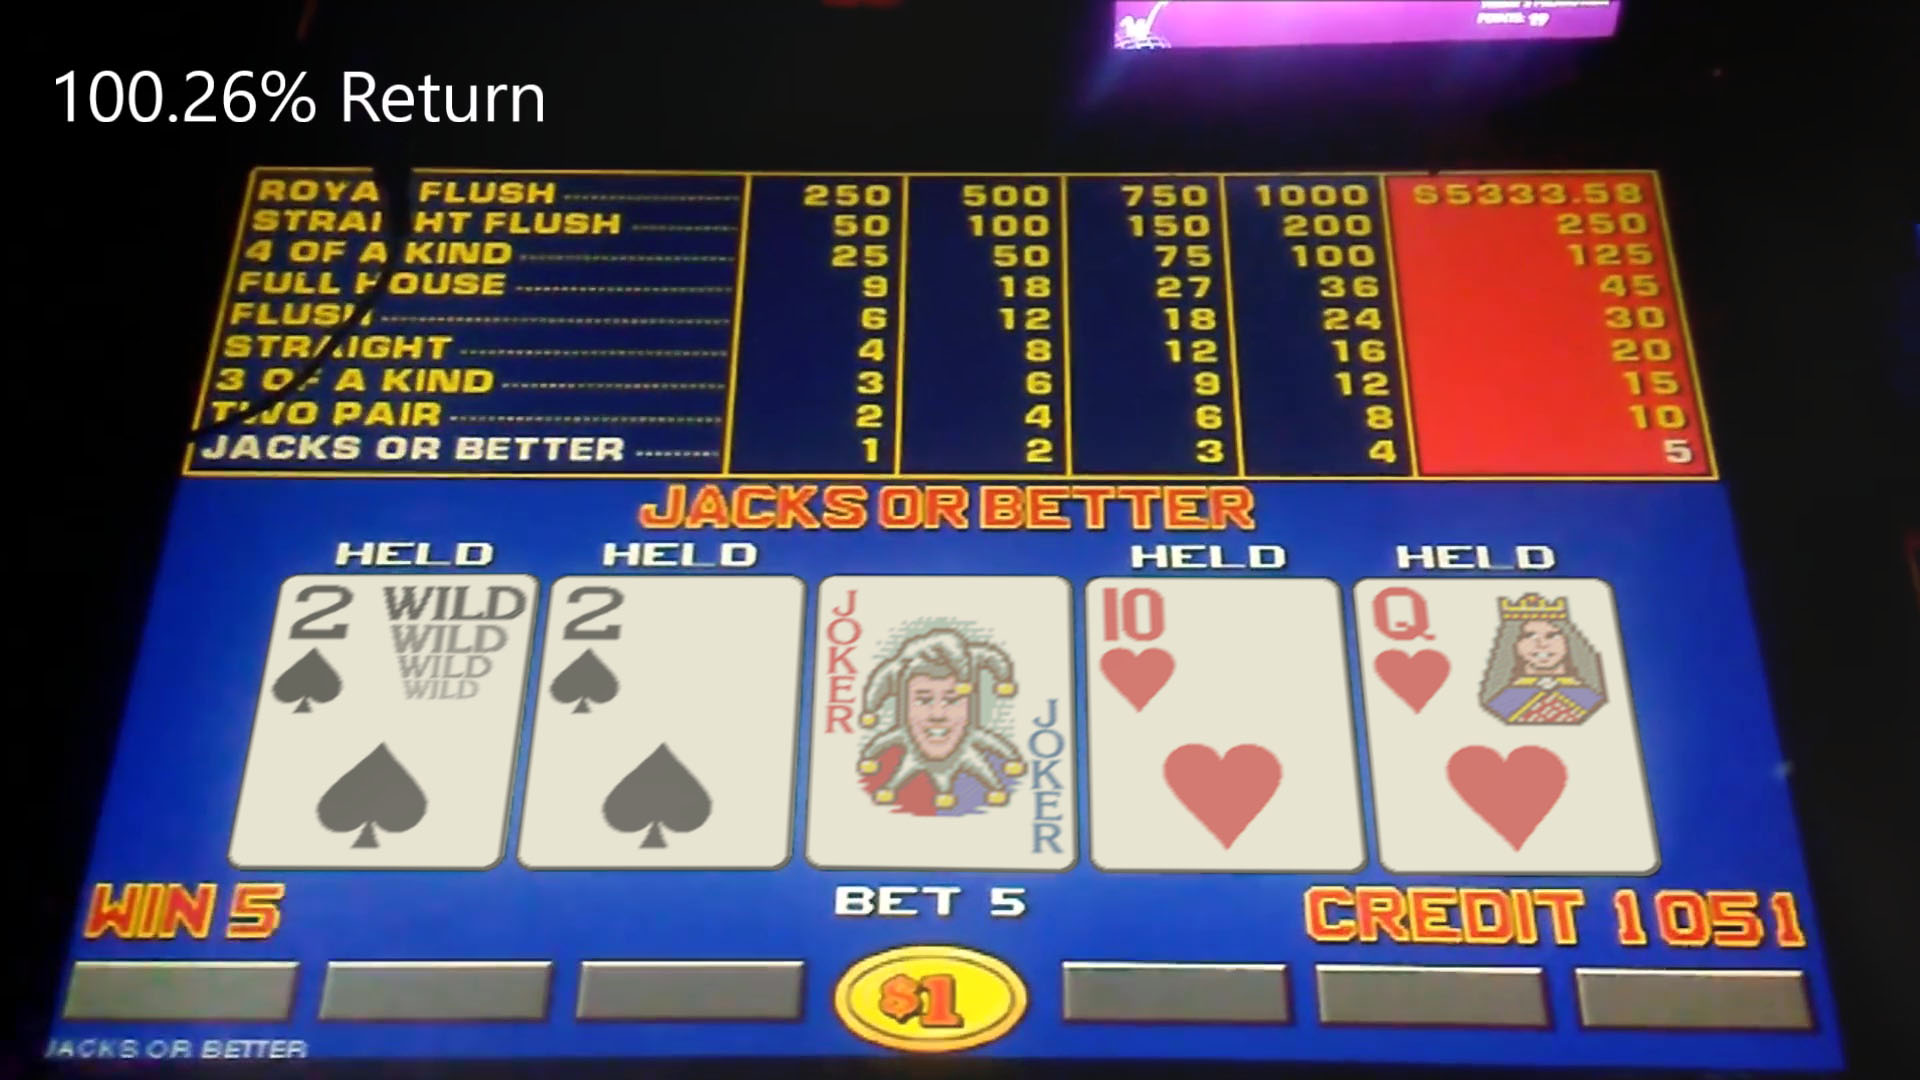HQ: (1370, 582, 1611, 724)
HT: (1091, 580, 1338, 725)
S2: (553, 578, 793, 735)
S2W: (276, 576, 518, 727)
joker: (822, 576, 1068, 731)
